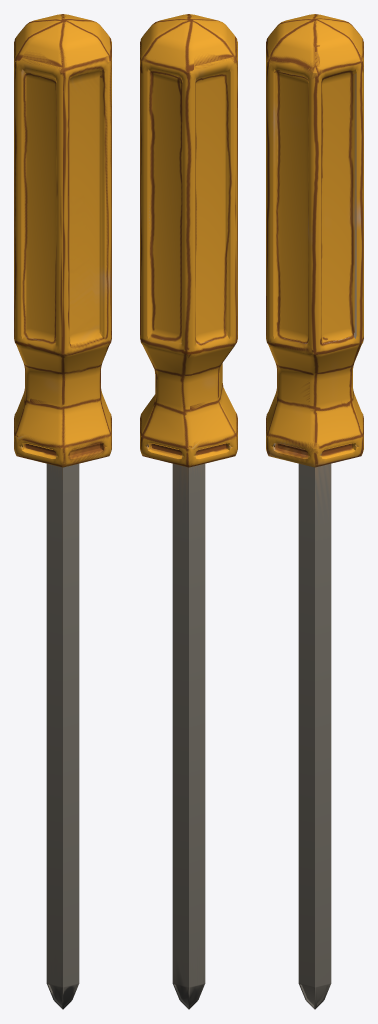
Rendered from MA_Prop_Screwdriver_For_Eport.fbx.
3 renders of one model, left to right at view 1: azimuth 90°, elevation 25°; view 2: azimuth 150°, elevation 25°; view 3: azimuth 270°, elevation 25°, orthographic.
Visible parts, largest first — view 1: Cylinder001; view 2: Cylinder001; view 3: Cylinder001.
Boxes of the visible parts, bbox=[...] form: Cylinder001: bbox=[14, 14, 111, 1009]; Cylinder001: bbox=[140, 14, 237, 1009]; Cylinder001: bbox=[266, 14, 363, 1009].
Size of the model in its own units: 47.04 by 463 by 41.43.
